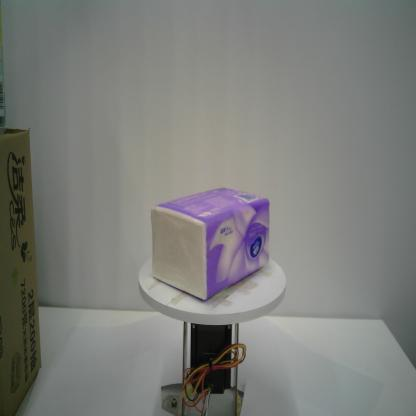Tissue: (149, 183, 271, 304)
